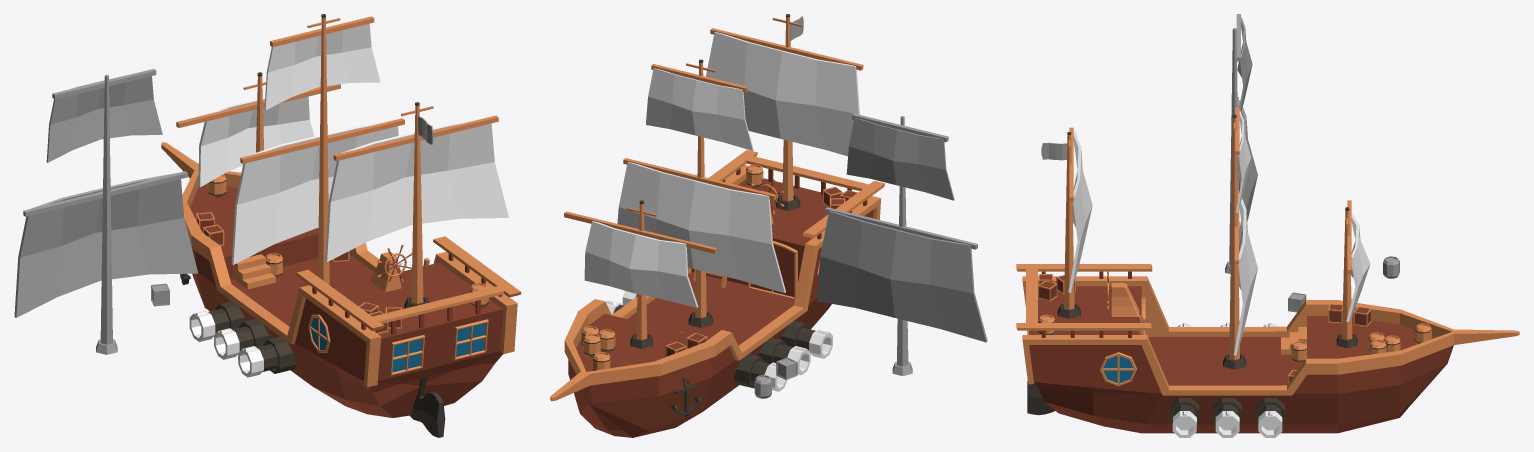
Rendered from Players_Ship_A01.fbx.
3 renders of one model, left to right at view 1: azimuth 30°, elevation 25°; view 2: azimuth 150°, elevation 25°; view 3: azimuth 270°, elevation 25°, orthographic. The views are drawn at different scales.
Visible parts, largest first — view 1: Base, Sail_01 (×2), pPlane3, Sail_Bot, Mast_Pole (×3), pPlane4, Sail_Top, pCylinder7, Tip (×3), Rudder, pCube21, pCube22 (+1 smaller); view 2: Base, Sail_01 (×2), pPlane3, Sail_Bot, Mast_Pole (×3), pPlane4, Sail_Top, pCylinder7, Tip (×2), pCube21, Cannon_Holder, pCube22; view 3: Base, Mast_Pole (×3), Sail_01 (×2), Tip (×3), Sail_Bot, pCylinder7, pPlane3, Sail_Top, pPlane4, Rudder.
Part boxes in pixels (left/top/right/bottom): Base: left=161, top=142, right=521, bottom=417; Sail_01 (×2): left=198, top=96, right=508, bottom=261; pPlane3: left=14, top=172, right=198, bottom=317; Sail_Bot: left=231, top=119, right=398, bottom=264; Mast_Pole (×3): left=176, top=14, right=498, bottom=303; pPlane4: left=46, top=75, right=162, bottom=162; Sail_Top: left=264, top=23, right=380, bottom=110; pCylinder7: left=96, top=75, right=117, bottom=354; Tip (×3): left=189, top=310, right=263, bottom=377; Rudder: left=410, top=377, right=445, bottom=437; pCube21: left=23, top=171, right=187, bottom=216; pCube22: left=52, top=69, right=156, bottom=99; Base: left=550, top=149, right=884, bottom=437; Sail_01 (×2): left=584, top=32, right=860, bottom=307; pPlane3: left=817, top=211, right=987, bottom=342; Sail_Bot: left=617, top=162, right=785, bottom=293; Mast_Pole (×3): left=564, top=14, right=863, bottom=339; pPlane4: left=846, top=117, right=954, bottom=200; Sail_Top: left=646, top=68, right=753, bottom=150; pCylinder7: left=892, top=116, right=912, bottom=376; Tip (×2): left=787, top=329, right=832, bottom=375; pCube21: left=825, top=207, right=977, bottom=249; Cannon_Holder: left=733, top=354, right=764, bottom=388; pCube22: left=852, top=113, right=948, bottom=142; Base: left=1016, top=264, right=1519, bottom=433; Mast_Pole (×3): left=1064, top=107, right=1352, bottom=360; Sail_01 (×2): left=1068, top=130, right=1370, bottom=321; Tip (×3): left=1172, top=411, right=1282, bottom=437; Sail_Bot: left=1233, top=198, right=1257, bottom=355; pCylinder7: left=1225, top=28, right=1239, bottom=273; pPlane3: left=1238, top=100, right=1257, bottom=250; Sail_Top: left=1236, top=110, right=1251, bottom=212; pPlane4: left=1237, top=17, right=1252, bottom=111; Rudder: left=1027, top=381, right=1054, bottom=415.
Size of the model in its own units: 18.93 by 15.42 by 22.56.
